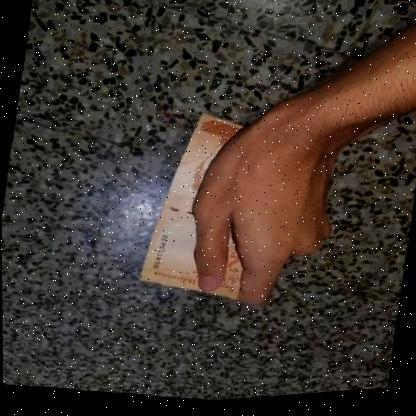twenty-front-vef: (134, 105, 264, 310)
